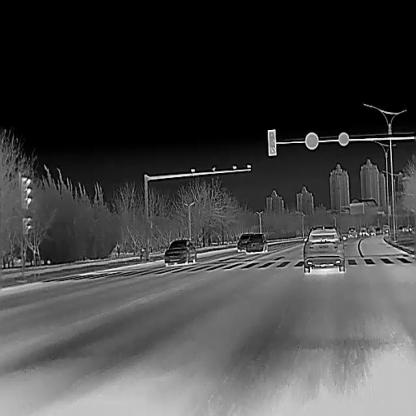car: (303, 225, 346, 271), (164, 239, 196, 266), (245, 233, 267, 253), (237, 233, 250, 252), (347, 226, 356, 236), (358, 227, 366, 235)
